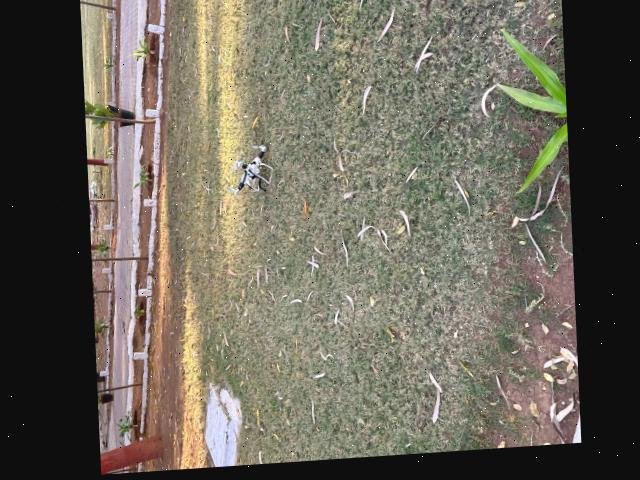drone: (223, 131, 278, 206)
